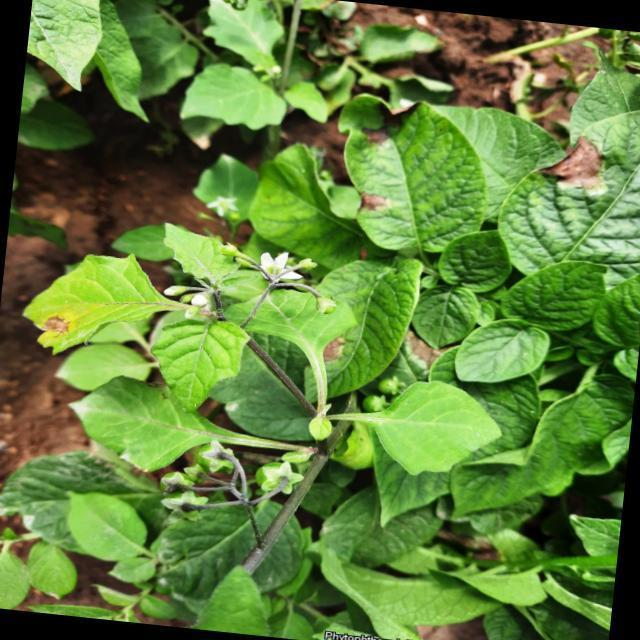Healthy Leaf: (380, 379, 504, 484), (154, 316, 250, 422), (452, 304, 548, 394), (517, 248, 602, 339), (64, 492, 154, 559), (439, 226, 514, 298)
